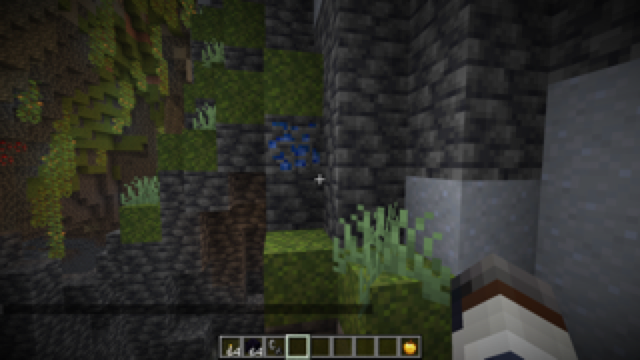lapis: (262, 113, 330, 177)
